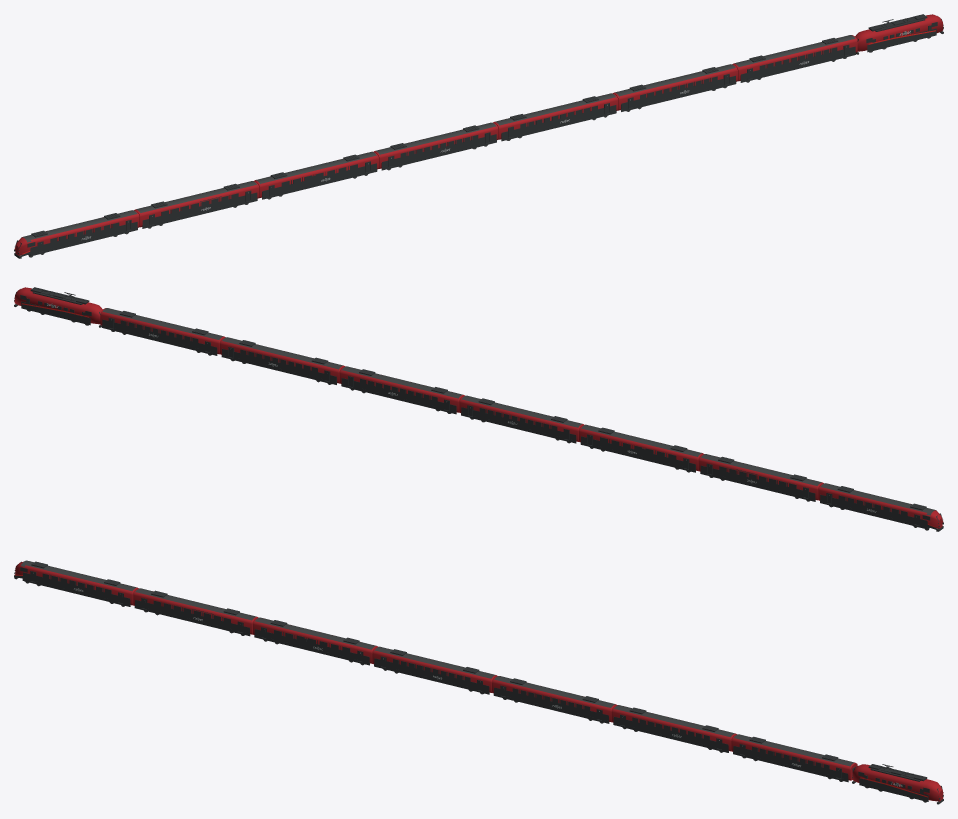
Rendered from railjet-classic-livery-v2.glb.
3 views of the same model, one above another, from view 1: azimuth 30°, elevation 25°; view 2: azimuth 150°, elevation 25°; view 3: azimuth 330°, elevation 25° (orthographic).
Visible parts, largest first — view 1: taurus_lofted_body.001, driving_trailer_lofted_body.001, railjet_economy_lofted_body.004, railjet_first_lofted_body.001, railjet_economy_lofted_body.001, railjet_economy_lofted_body.002, railjet_restaurant_lofted_body.001, railjet_economy_lofted_body.003, economy_graphite_flank_-1.001, economy_graphite_flank_-1.004, economy_dark_roof.003, economy_graphite_flank_-1.003 (+10 smaller); view 2: taurus_lofted_body.001, driving_trailer_lofted_body.001, railjet_economy_lofted_body.004, railjet_first_lofted_body.001, railjet_economy_lofted_body.001, railjet_economy_lofted_body.002, railjet_restaurant_lofted_body.001, railjet_economy_lofted_body.003, economy_graphite_flank_1.001, economy_graphite_flank_1.004, economy_dark_roof.003, economy_graphite_flank_1.003 (+10 smaller); view 3: taurus_lofted_body.001, railjet_economy_lofted_body.001, railjet_economy_lofted_body.003, railjet_economy_lofted_body.004, railjet_restaurant_lofted_body.001, railjet_first_lofted_body.001, railjet_economy_lofted_body.002, driving_trailer_lofted_body.001, restaurant_graphite_flank_-1.001, economy_graphite_flank_-1.004, restaurant_dark_roof.001, economy_graphite_flank_-1.001 (+10 smaller).
Boxes of the visible parts, x1,y1,x2,y2 form: taurus_lofted_body.001: [855, 14, 943, 51]; driving_trailer_lofted_body.001: [15, 210, 139, 255]; railjet_economy_lofted_body.004: [373, 122, 498, 168]; railjet_first_lofted_body.001: [134, 181, 259, 227]; railjet_economy_lofted_body.001: [732, 35, 857, 81]; railjet_economy_lofted_body.002: [613, 64, 737, 110]; railjet_restaurant_lofted_body.001: [254, 151, 378, 198]; railjet_economy_lofted_body.003: [493, 93, 618, 139]; economy_graphite_flank_-1.001: [740, 47, 855, 80]; economy_graphite_flank_-1.004: [381, 135, 496, 167]; economy_dark_roof.003: [495, 93, 616, 125]; economy_graphite_flank_-1.003: [501, 106, 616, 138]; taurus_lofted_body.001: [14, 287, 102, 324]; driving_trailer_lofted_body.001: [818, 483, 942, 528]; railjet_economy_lofted_body.004: [459, 395, 584, 441]; railjet_first_lofted_body.001: [698, 454, 823, 500]; railjet_economy_lofted_body.001: [100, 308, 225, 354]; railjet_economy_lofted_body.002: [220, 337, 344, 383]; railjet_restaurant_lofted_body.001: [579, 424, 703, 471]; railjet_economy_lofted_body.003: [339, 366, 464, 412]; economy_graphite_flank_1.001: [102, 320, 217, 353]; economy_graphite_flank_1.004: [461, 408, 576, 440]; economy_dark_roof.003: [341, 366, 462, 398]; economy_graphite_flank_1.003: [341, 379, 456, 411]; taurus_lofted_body.001: [852, 764, 943, 801]; railjet_economy_lofted_body.001: [731, 734, 857, 780]; railjet_economy_lofted_body.003: [492, 676, 616, 722]; railjet_economy_lofted_body.004: [372, 647, 497, 692]; railjet_restaurant_lofted_body.001: [253, 617, 377, 663]; railjet_first_lofted_body.001: [133, 588, 258, 634]; railjet_economy_lofted_body.002: [611, 705, 736, 751]; driving_trailer_lofted_body.001: [15, 561, 138, 605]; restaurant_graphite_flank_-1.001: [254, 630, 369, 662]; economy_graphite_flank_-1.004: [374, 659, 489, 691]; restaurant_dark_roof.001: [255, 617, 376, 649]; economy_graphite_flank_-1.001: [733, 747, 848, 779].
Bounding box in the file's own units: 206 × 5.54 × 3.35.
